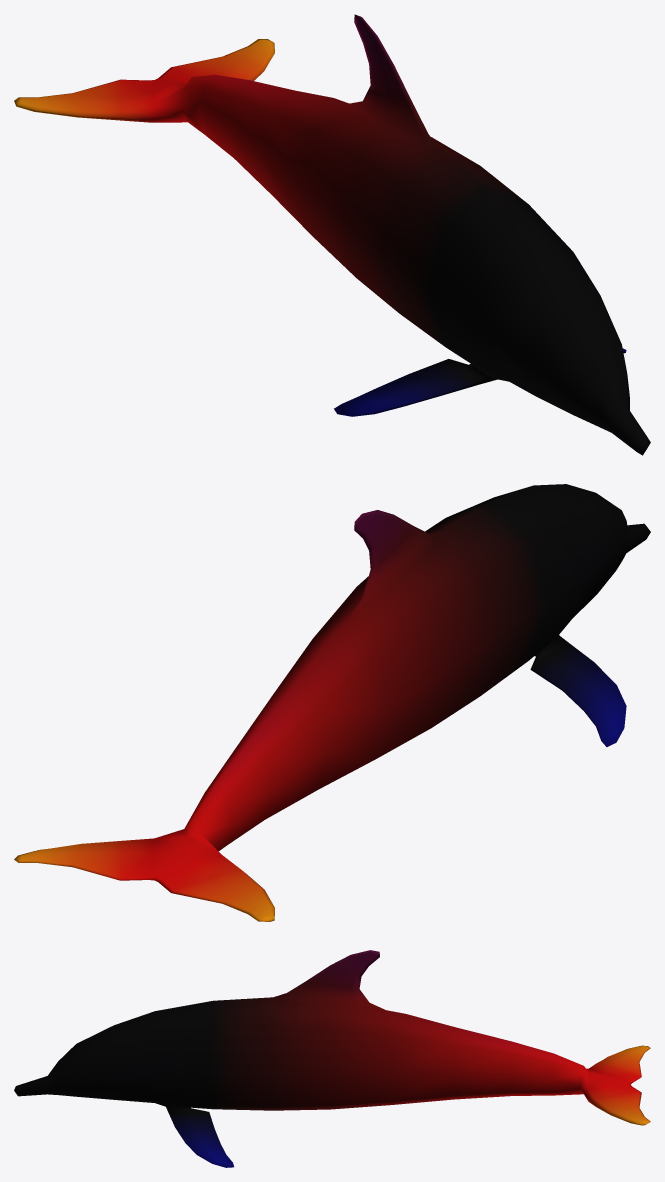
3 views of the same model, one above another, from view 1: azimuth 30°, elevation 25°; view 2: azimuth 150°, elevation 25°; view 3: azimuth 270°, elevation 25° (orthographic). The views are drawn at different scales.
Parts seen in each view (by area): view 1: common dolphin_final; view 2: common dolphin_final; view 3: common dolphin_final.
Part boxes in pixels (box(x1,y1,x2,y2)): common dolphin_final: box(14, 14, 650, 455); common dolphin_final: box(14, 484, 650, 921); common dolphin_final: box(14, 950, 650, 1167).
Size of the model in its own units: 0.6315 by 0.6033 by 1.98.
